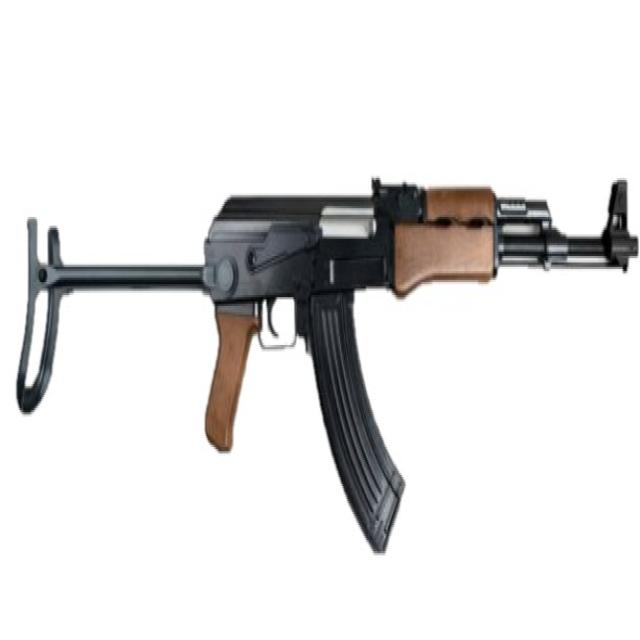rifle: (9, 171, 640, 559)
